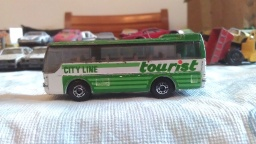bus: (42, 33, 208, 99)
